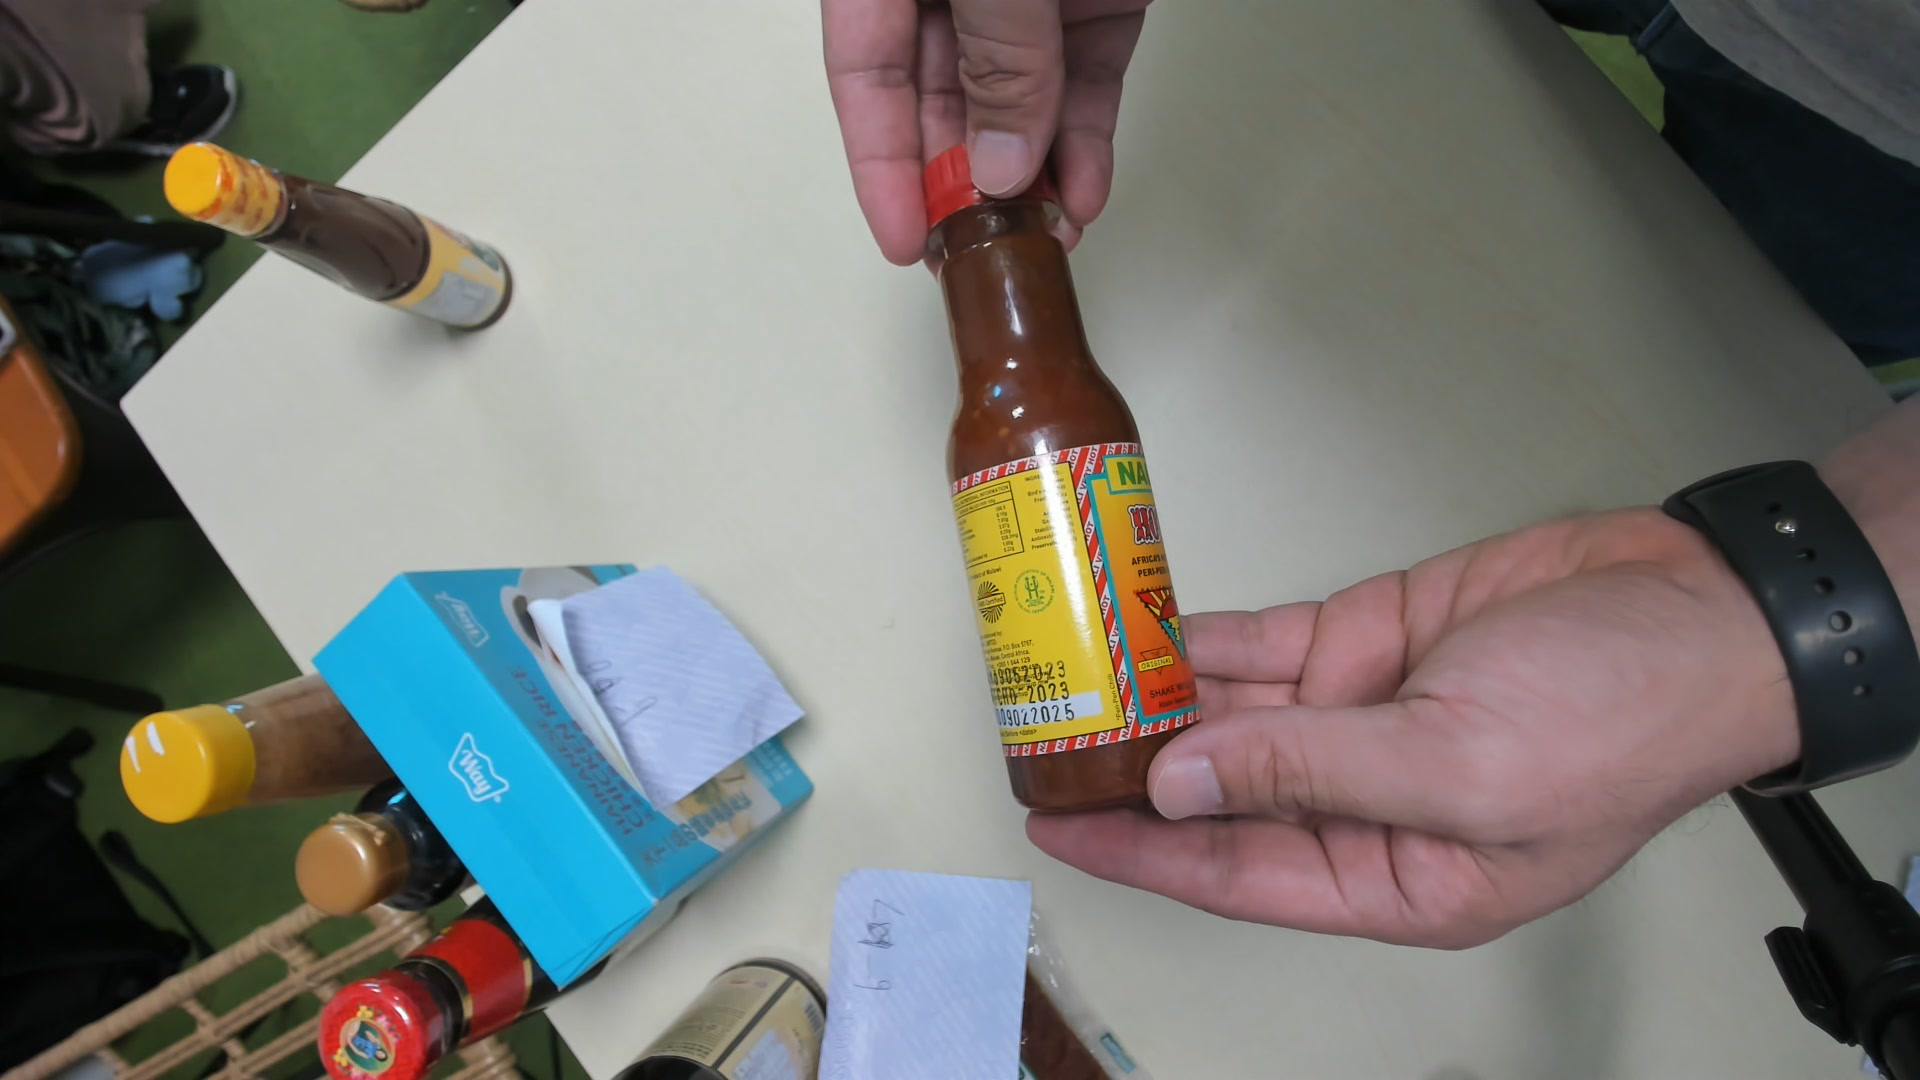KetchupChillSauce_100-199g_Halal_NonHealthy: (916, 140, 1197, 810)
